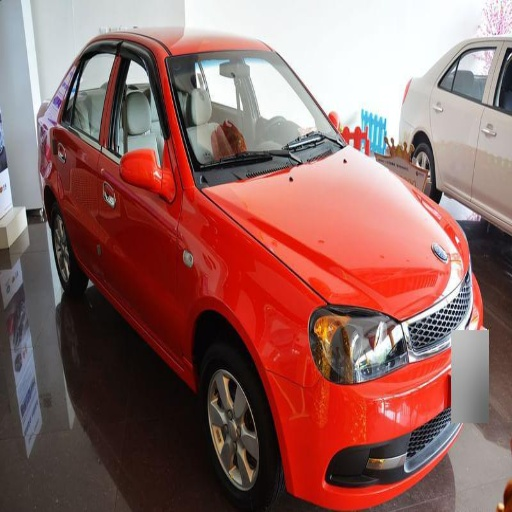front_bumper: (263, 345, 459, 511)
front_left_light: (404, 310, 459, 358)
front_right_door: (100, 40, 187, 354), (473, 60, 509, 194)
front_right_light: (309, 301, 401, 383)
